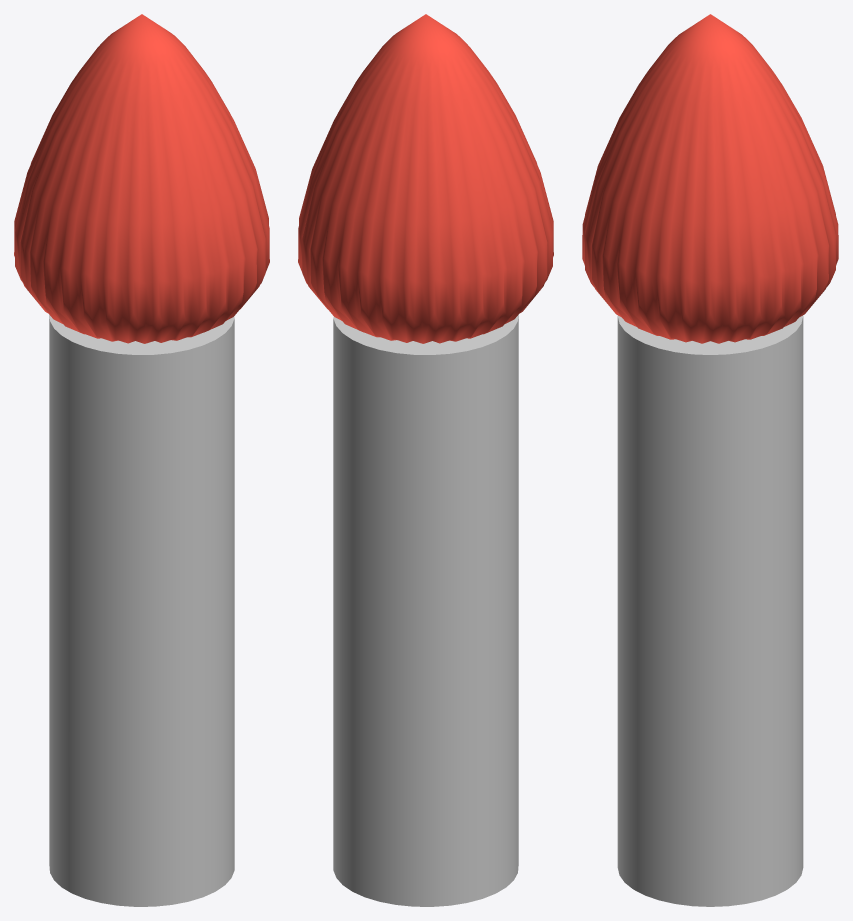
Rendered from candle.glb.
3 views of the same model, side by side, from view 1: azimuth 30°, elevation 25°; view 2: azimuth 150°, elevation 25°; view 3: azimuth 270°, elevation 25° (orthographic).
Parts seen in each view (by area): view 1: candle, flame; view 2: candle, flame; view 3: candle, flame.
Part boxes in pixels (<box>): candle: <box>49,315,234,906</box>; flame: <box>14,14,269,343</box>; candle: <box>333,315,518,906</box>; flame: <box>298,14,553,343</box>; candle: <box>617,315,803,906</box>; flame: <box>582,14,838,343</box>.
Size of the model in its own units: 0.4853 by 1.78 by 0.4853.
